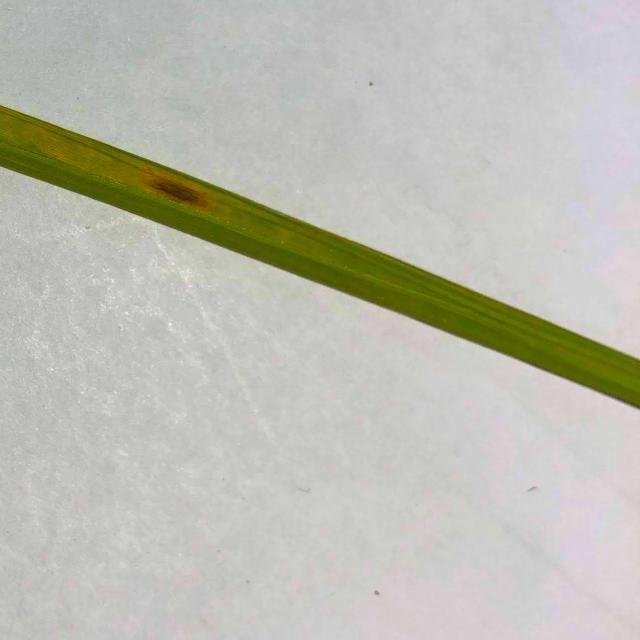brownspots: (141, 166, 212, 222)
